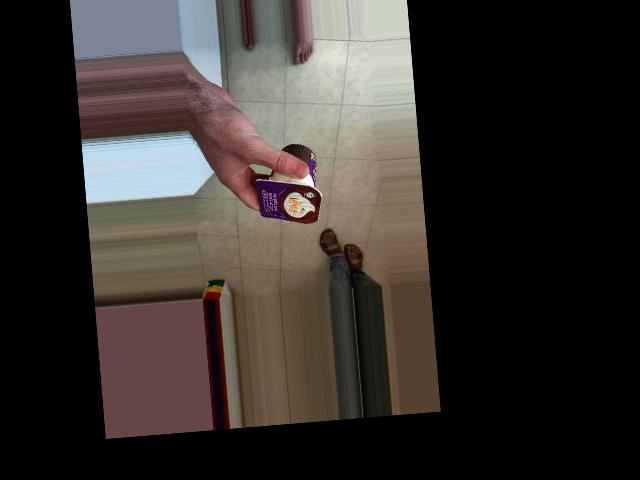milky: (260, 164, 351, 233)
